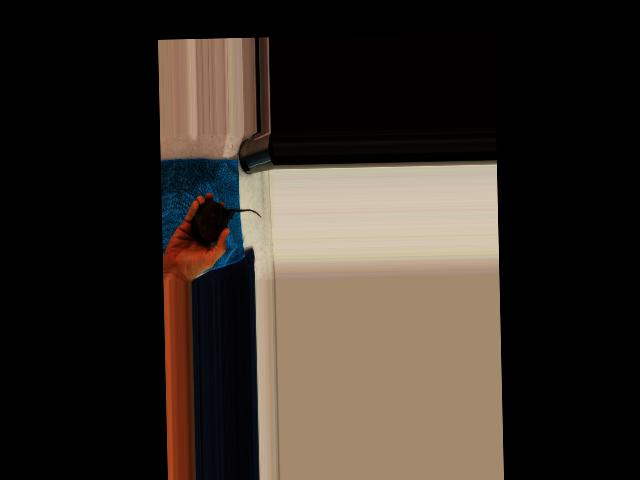beet: (190, 198, 261, 242)
